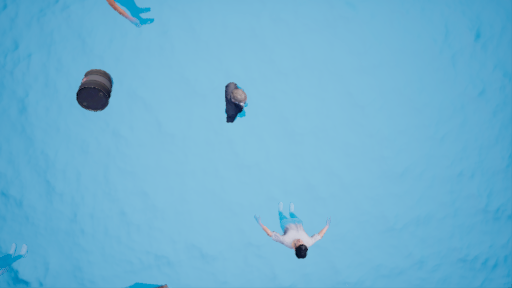person: (247, 197, 336, 260), (223, 82, 261, 124)
